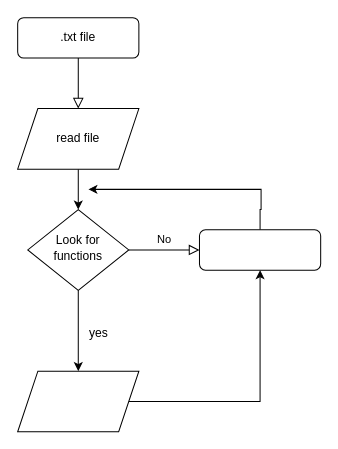
Some shapes in this 338 by 449 pixel diagram are drawn without their labels. Each missing label, with the centre of its shape:
execute the function: (78,401)
read next line: (259,249)
